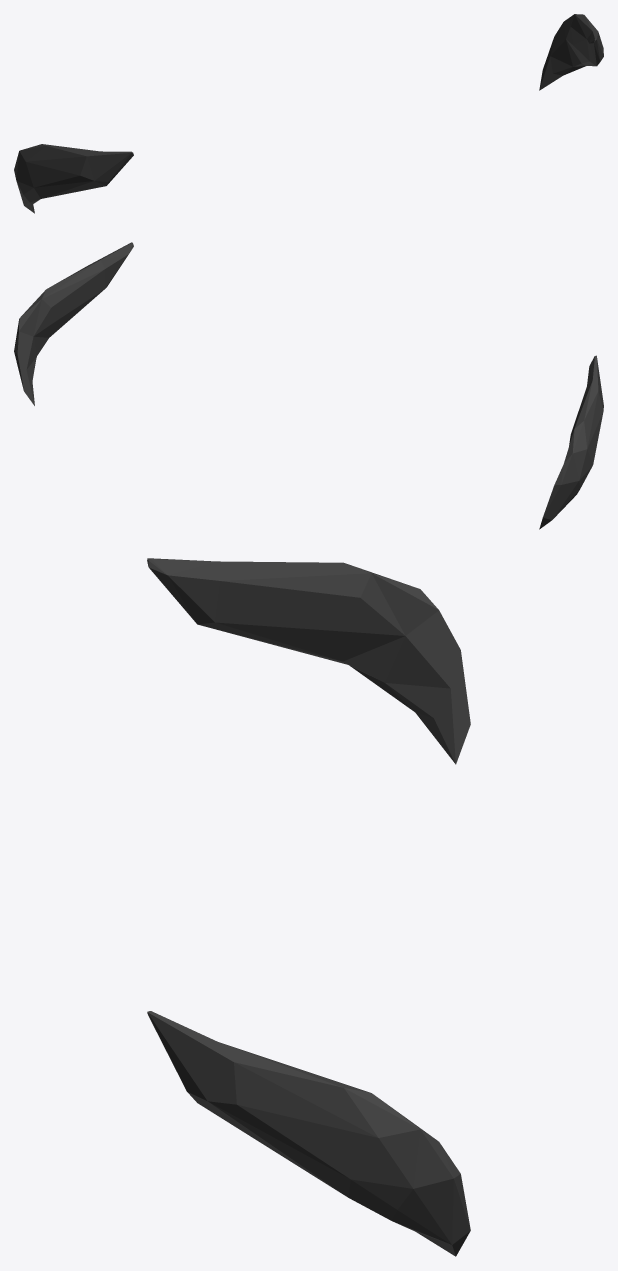
The model's file is m_anconeus.glb.
3 views of the same model, one above another, from view 1: azimuth 30°, elevation 25°; view 2: azimuth 150°, elevation 25°; view 3: azimuth 270°, elevation 25° (orthographic). The views are drawn at different scales.
Visible parts, largest first — view 1: m_anconeus; view 2: m_anconeus; view 3: m_anconeus.
Part boxes in pixels (x1,y1,x2,y2): m_anconeus: (14,14,603,213); m_anconeus: (14,242,603,529); m_anconeus: (147,558,470,1256).
Size of the model in its own units: 0.0062 by 0.00119 by 0.00154.
1 material, 1 textured.
